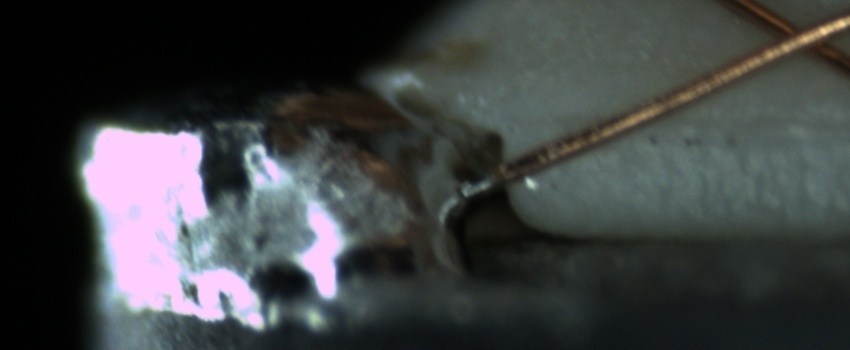CL: (747, 5, 845, 68)
DL: (615, 90, 846, 159)
TS: (458, 169, 498, 199)
